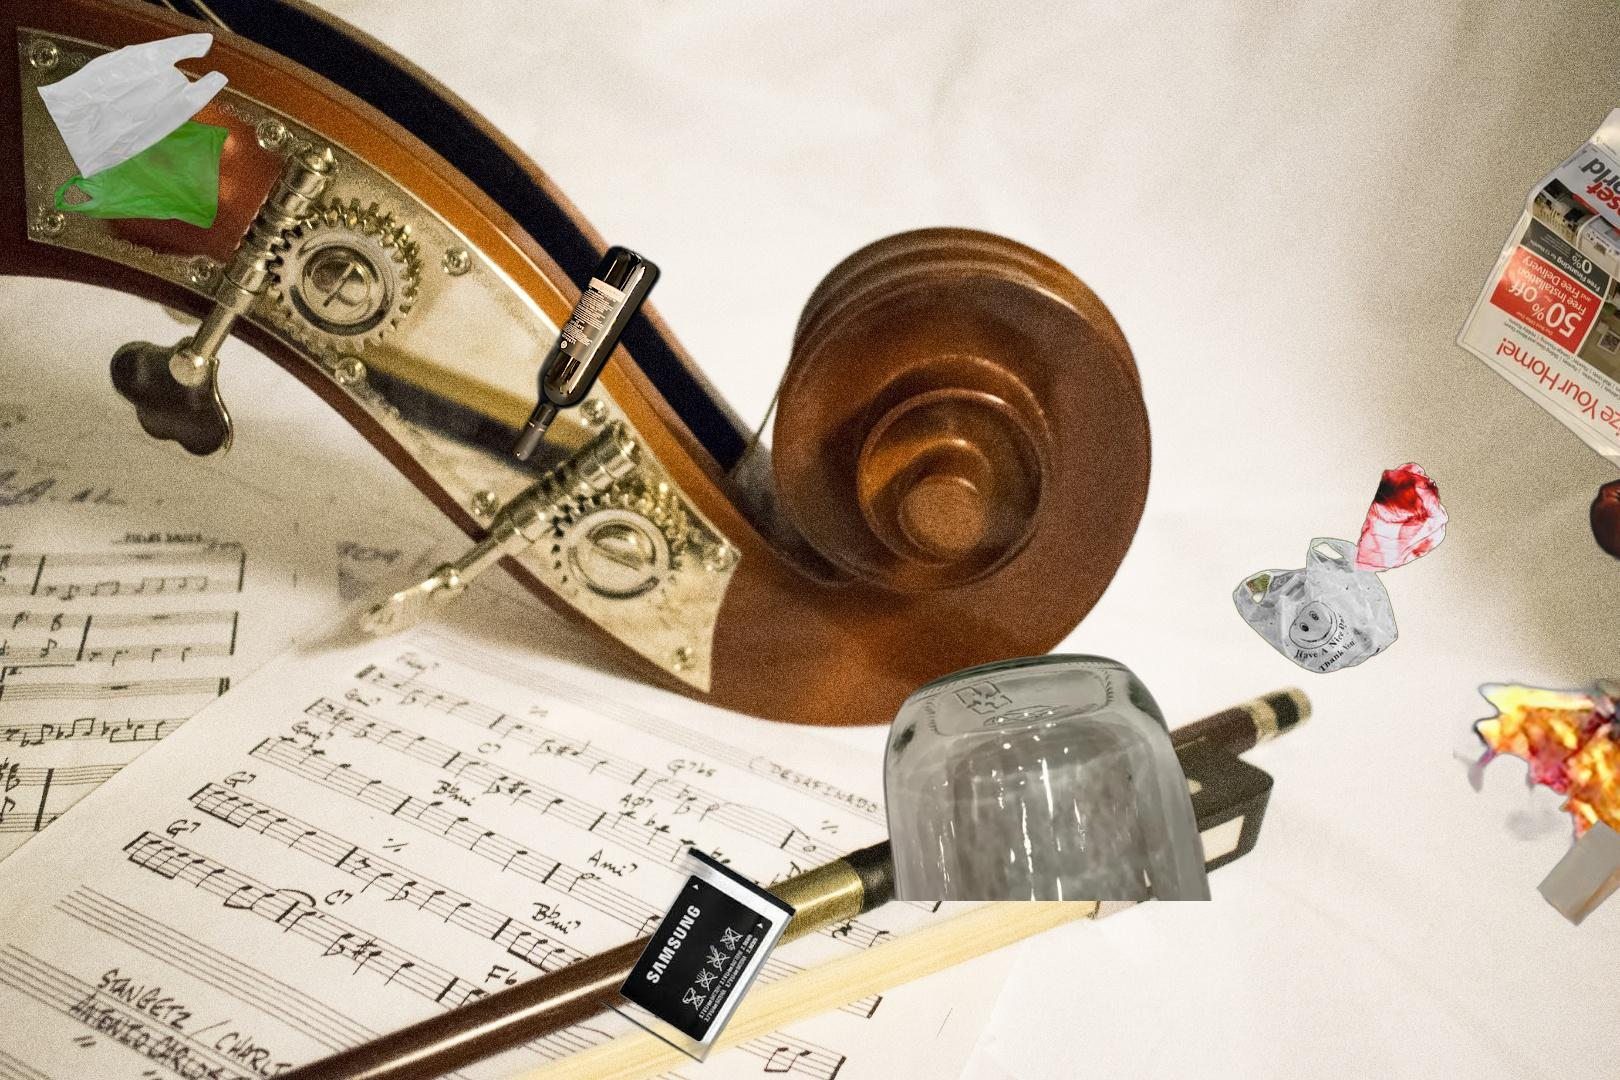battery: (583, 843, 799, 1068)
biological: (1587, 436, 1620, 610)
glass: (879, 650, 1216, 900), (506, 240, 667, 469)
paper: (1451, 108, 1620, 492)
paper-bag: (1452, 677, 1620, 943)
plastic-bag: (1229, 460, 1452, 676), (34, 30, 231, 231)
